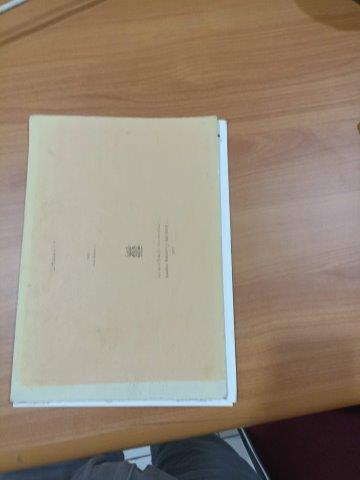kertas: (10, 114, 237, 407)
